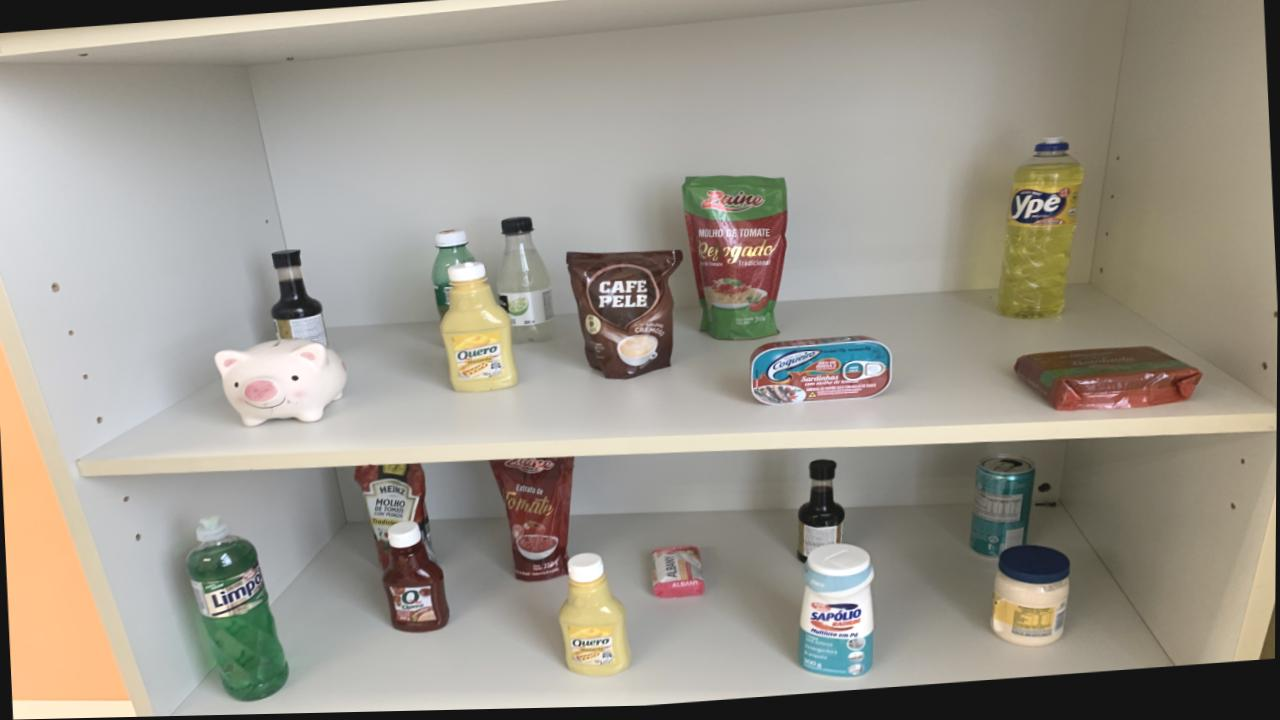Cleaner-Cleanup_Items: (799, 547, 874, 681)
Coffee-Pantry_Items: (566, 253, 682, 382)
Detergent-Cleanup_Items: (187, 517, 290, 703), (997, 143, 1084, 324)
English_Sauce-Pantry_Items: (270, 251, 327, 346), (798, 463, 846, 564)
Guarana-Drinks: (431, 232, 476, 319)
Guava-Snacks: (1015, 351, 1201, 416)
Ketchup-Pantry_Items: (383, 522, 450, 635)
Mayonnaise-Pantry_Items: (991, 549, 1070, 652)
Mustard-Pantry_Items: (441, 264, 517, 394), (560, 555, 632, 680)
Pig_Safe-Miscellaneous: (215, 339, 346, 429)
Soap-Cleanup_Items: (653, 549, 705, 602)
Soda-Drinks: (497, 220, 555, 346)
Tea-Drinks: (970, 458, 1035, 561)
Tomato_Sauce-Pantry_Items: (681, 179, 788, 344), (490, 459, 574, 584), (355, 465, 435, 571)
Tuna_Can-Pantry_Items: (749, 340, 892, 407)
